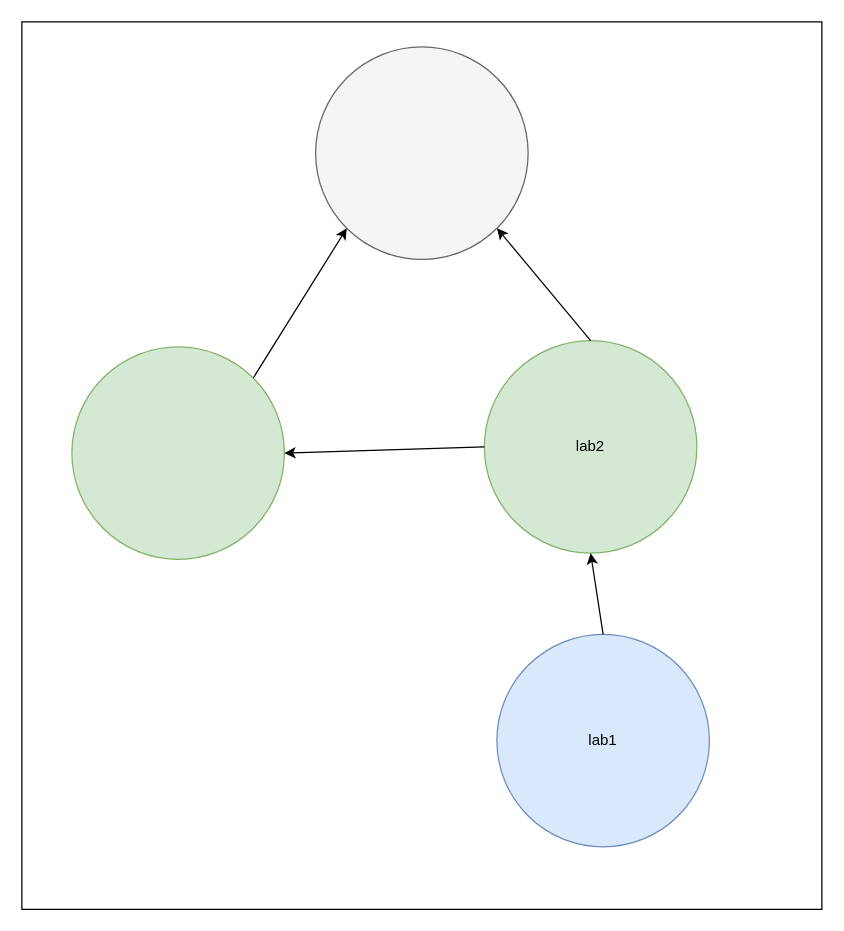
This 844x931 diagram has some shape labels left out. Here are the shapes that lost their labels. From the top down, the centre of each, then its label:
[421,152]: lab4
[177,452]: lab3
